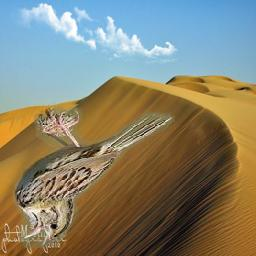Sparrow: (13, 104, 176, 249)
